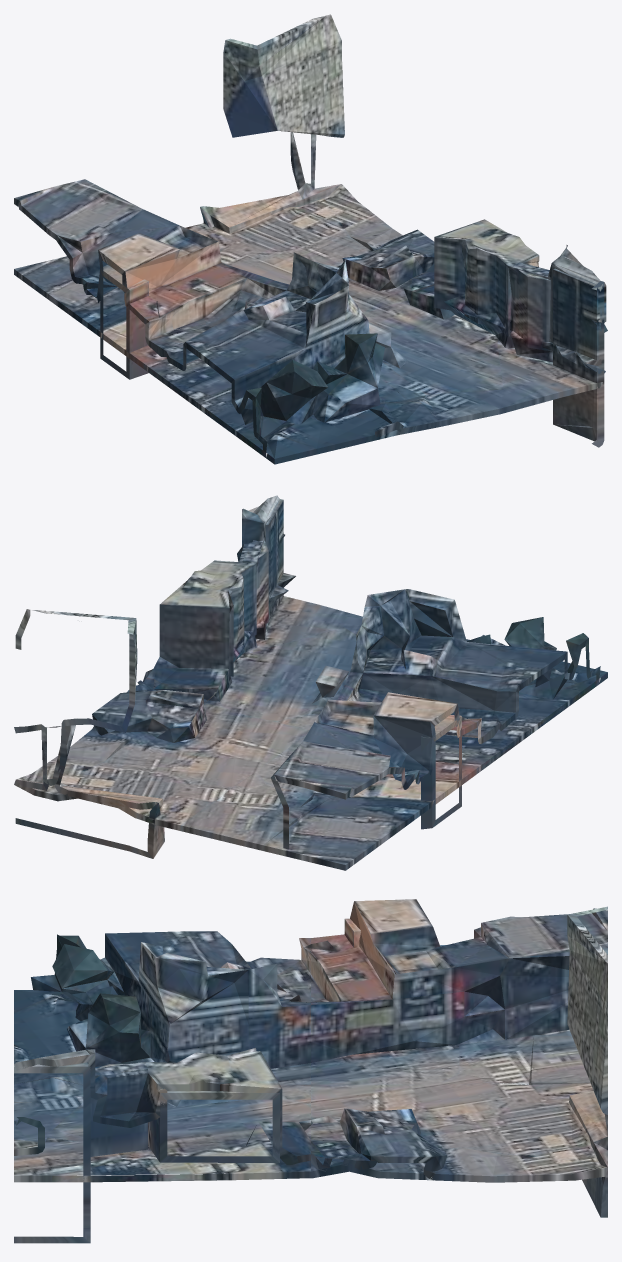
The model's file is chunk_-3_-3.glb.
3 views of the same model, one above another, from view 1: azimuth 30°, elevation 25°; view 2: azimuth 150°, elevation 25°; view 3: azimuth 270°, elevation 25° (orthographic). The views are drawn at different scales.
Visible parts, largest first — view 1: hero-chunk; view 2: hero-chunk; view 3: hero-chunk.
Part boxes in pixels (x1,y1,x2,y2): hero-chunk: (14,14,607,464); hero-chunk: (14,495,607,870); hero-chunk: (14,899,607,1243).
Size of the model in its own units: 56.34 by 39.49 by 76.32.
2 materials, 2 textured.
